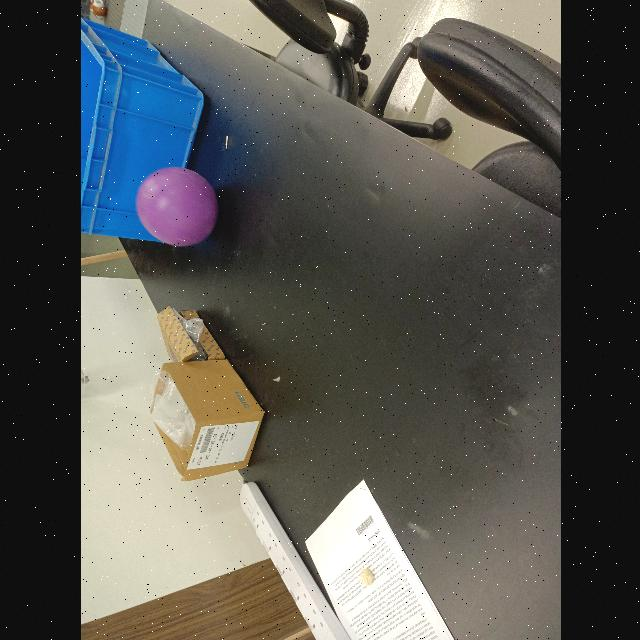P: (136, 167, 216, 249)
